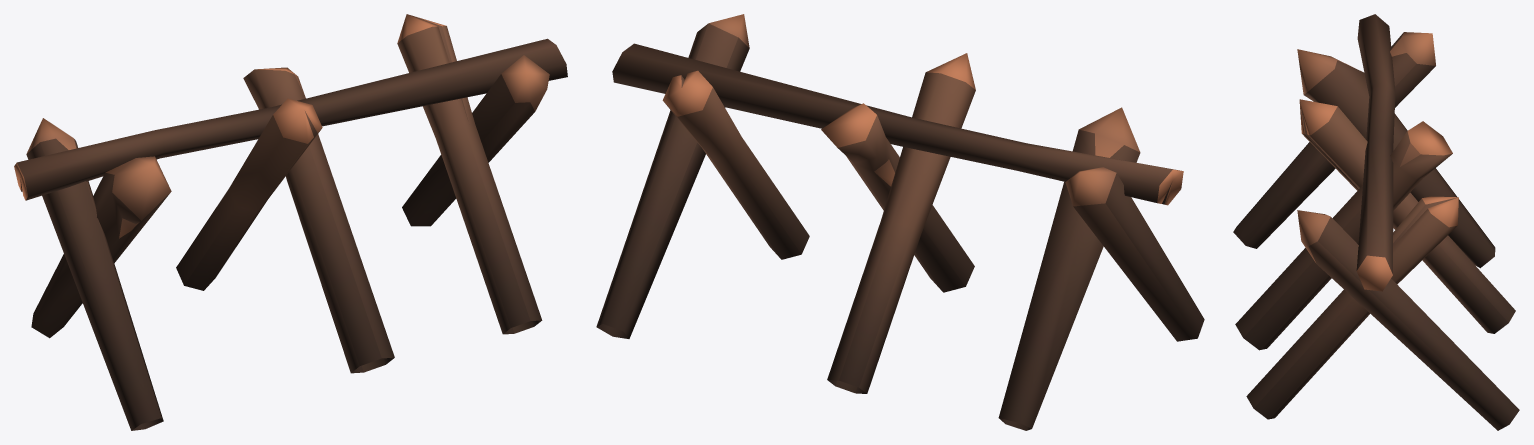
Rendered from Barricade_1A.FBX.
3 views of the same model, side by side, from view 1: azimuth 30°, elevation 25°; view 2: azimuth 150°, elevation 25°; view 3: azimuth 270°, elevation 25° (orthographic). The views are drawn at different scales.
Parts seen in each view (by area): view 1: Barricade_1A; view 2: Barricade_1A; view 3: Barricade_1A.
Part boxes in pixels (x1,y1,x2,y2): Barricade_1A: (14,14,567,430); Barricade_1A: (596,14,1204,430); Barricade_1A: (1233,14,1519,430).
Size of the model in its own units: 279 by 127 by 141.
